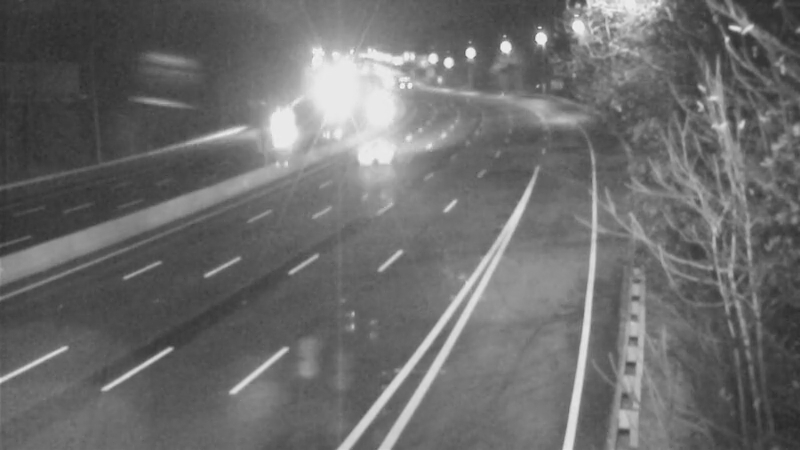vehicle: (339, 118, 419, 198), (380, 61, 430, 111), (258, 104, 308, 154), (353, 82, 403, 132)
